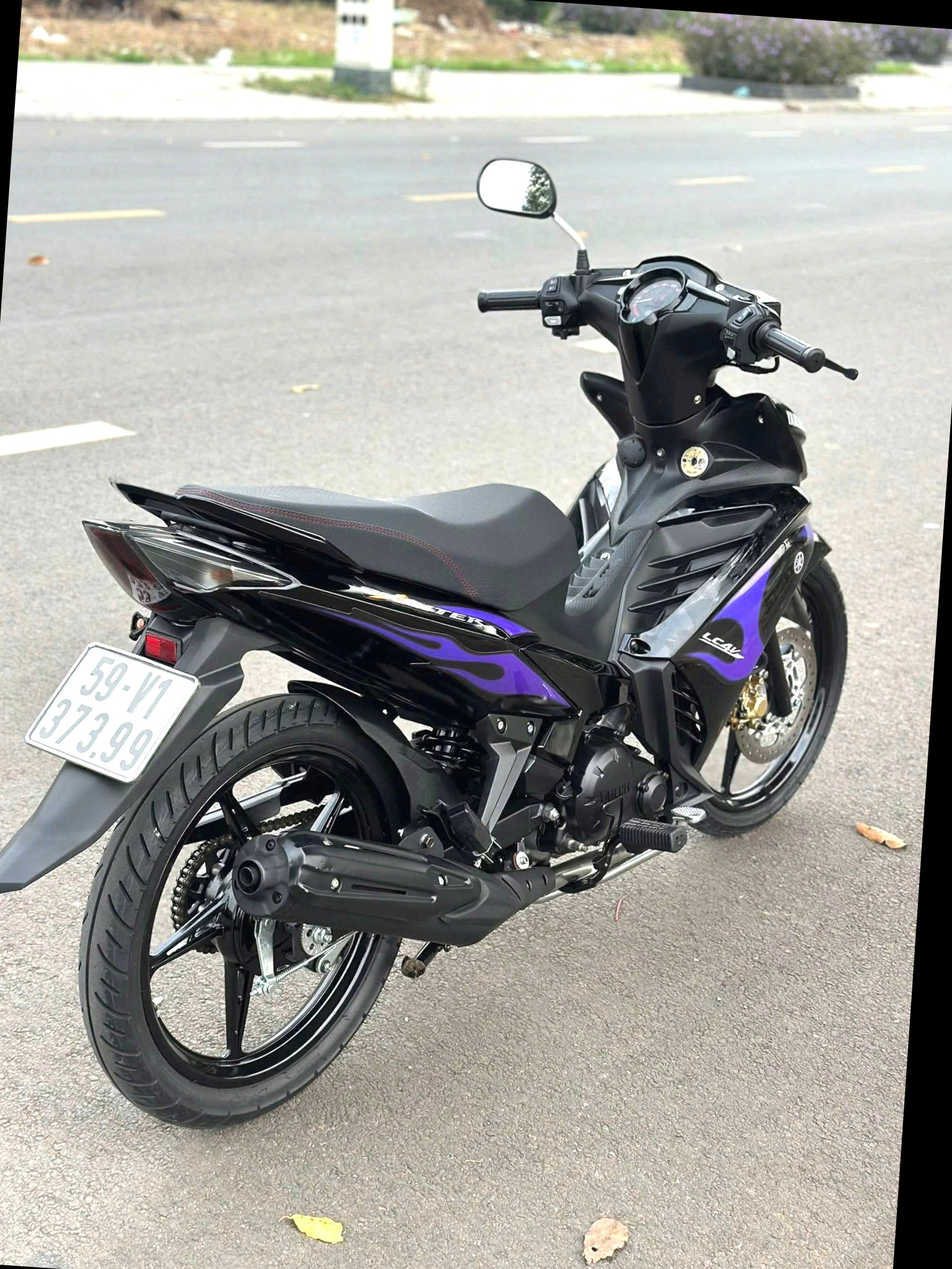Bien-so: (96, 652, 267, 802)
